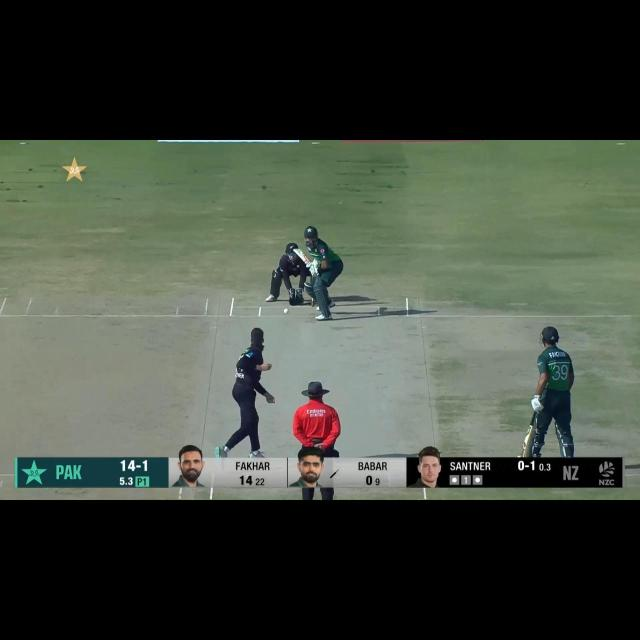bat: (520, 426, 536, 458), (291, 248, 310, 264)
toe: (293, 249, 303, 255), (522, 452, 529, 457)
